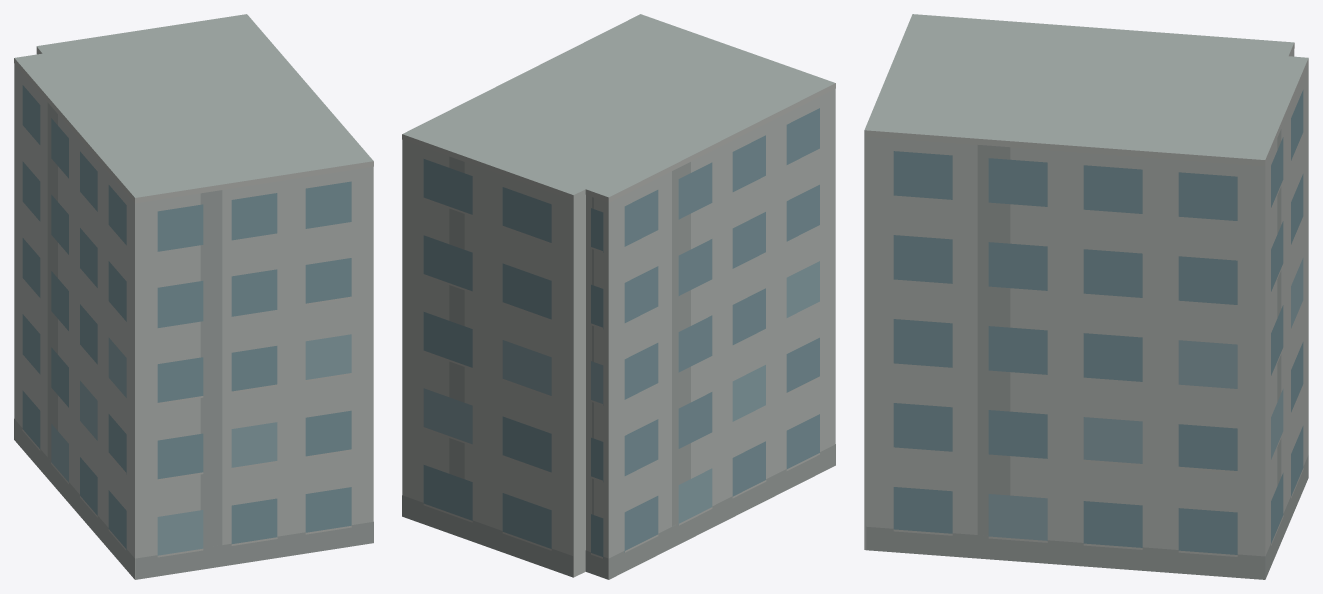
Rendered from survey-upis-32761027.glb.
3 renders of one model, left to right at view 1: azimuth 30°, elevation 25°; view 2: azimuth 150°, elevation 25°; view 3: azimuth 270°, elevation 25°, orthographic. The views are drawn at different scales.
Parts seen in each view (by area): view 1: survey-upis-32761027.tmp; view 2: survey-upis-32761027.tmp; view 3: survey-upis-32761027.tmp.
Boxes of the visible parts, left/top/right/bottom form: survey-upis-32761027.tmp: left=14, top=14, right=373, bottom=579; survey-upis-32761027.tmp: left=402, top=14, right=835, bottom=579; survey-upis-32761027.tmp: left=864, top=14, right=1308, bottom=579.
Size of the model in its own units: 12.59 by 16.85 by 16.17.
